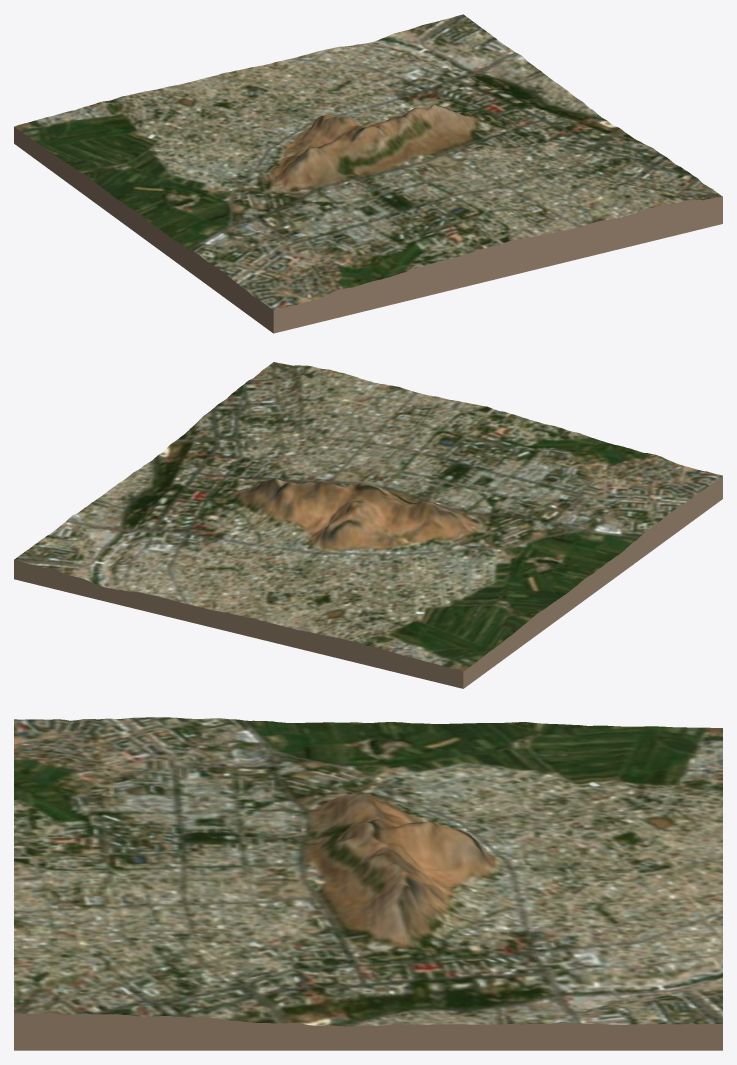
Rendered from sulaiman-too.glb.
The picture shows the model from 3 angles, top to bottom: view 1: azimuth 30°, elevation 25°; view 2: azimuth 150°, elevation 25°; view 3: azimuth 270°, elevation 25°; orthographic projection. The views are drawn at different scales.
Visible parts, largest first — view 1: Рельеф, Бока; view 2: Рельеф, Бока; view 3: Рельеф, Бока.
Part boxes in pixels (box(x1,y1,x2,y2)): Рельеф: box(14, 14, 722, 310); Бока: box(14, 127, 722, 333); Рельеф: box(14, 362, 722, 671); Бока: box(14, 476, 722, 688); Рельеф: box(14, 717, 722, 1026); Бока: box(14, 1013, 722, 1050).
Bounding box in the file's own units: 3000 × 356 × 3000.
Materials: 2 (1 with a texture image).
